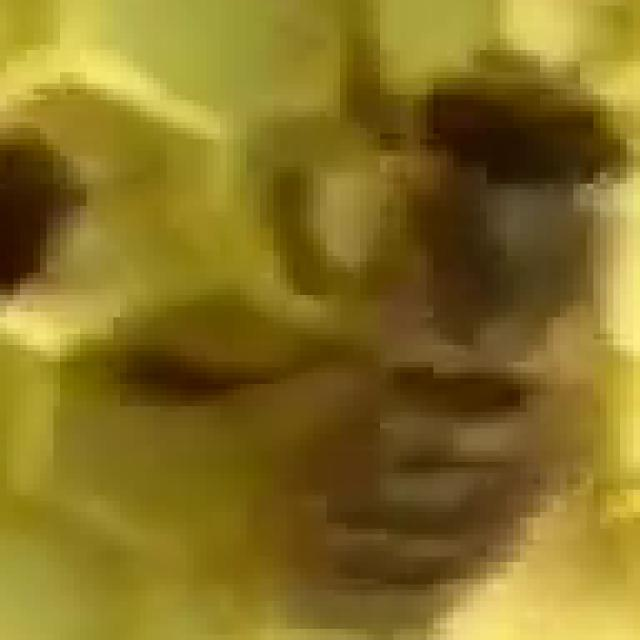honeybee: (253, 42, 640, 640)
